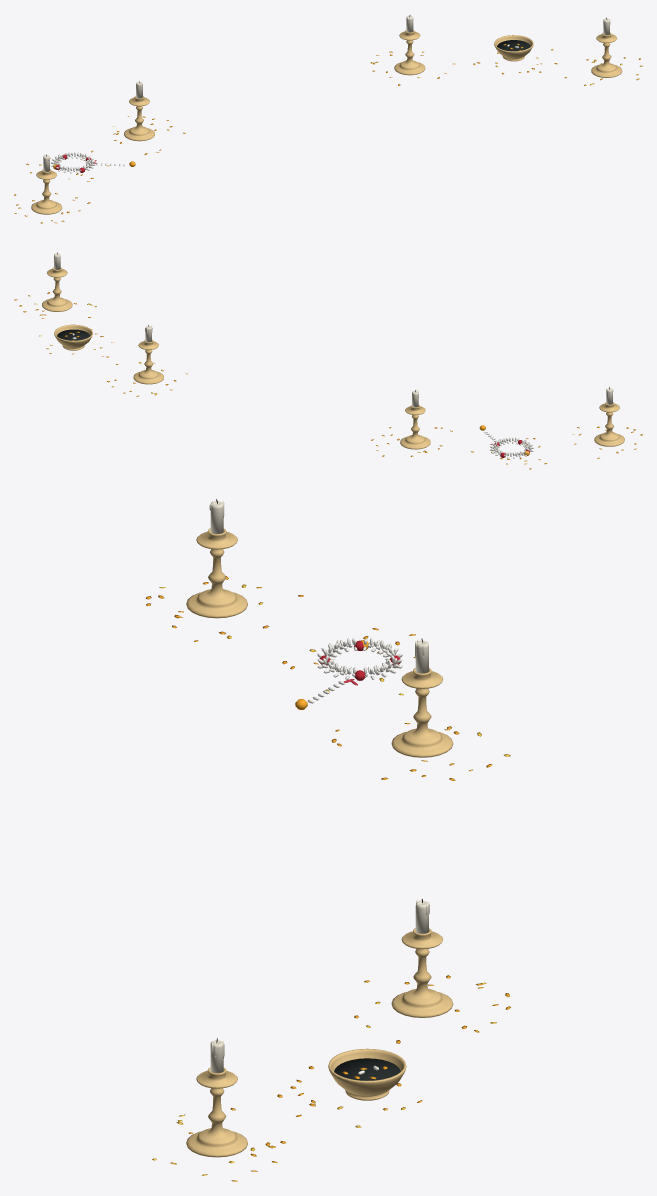
The model's file is props.glb.
The picture shows the model from 3 angles, top to bottom: view 1: azimuth 30°, elevation 25°; view 2: azimuth 150°, elevation 25°; view 3: azimuth 270°, elevation 25°; orthographic projection. The views are drawn at different scales.
Visible parts, largest first — view 1: stand3, stand2, stand1, stand0, bowl, garland_buds, petals; view 2: stand0, stand1, stand3, stand2, bowl, garland_buds; view 3: stand0, stand2, stand3, stand1, bowl, garland_buds, water, petals.
Part boxes in pixels (x1,y1,x2,y2): stand3: [591, 32, 622, 77]; stand2: [31, 169, 62, 214]; stand1: [394, 30, 425, 75]; stand0: [124, 96, 154, 141]; bowl: [494, 35, 533, 61]; garland_buds: [51, 152, 124, 173]; petals: [14, 51, 640, 223]; stand0: [400, 405, 430, 449]; stand1: [133, 339, 163, 384]; stand3: [42, 267, 72, 311]; stand2: [594, 402, 624, 446]; bowl: [54, 324, 92, 350]; garland_buds: [484, 431, 533, 458]; stand0: [391, 668, 453, 757]; stand2: [186, 528, 247, 618]; stand3: [186, 1067, 247, 1157]; stand1: [391, 928, 453, 1017]; bowl: [328, 1048, 406, 1100]; garland_buds: [307, 637, 402, 703]; water: [334, 1058, 400, 1080]; petals: [146, 576, 510, 1181].
Bounding box in the file's own units: 19.54 × 1.62 × 4.99.
